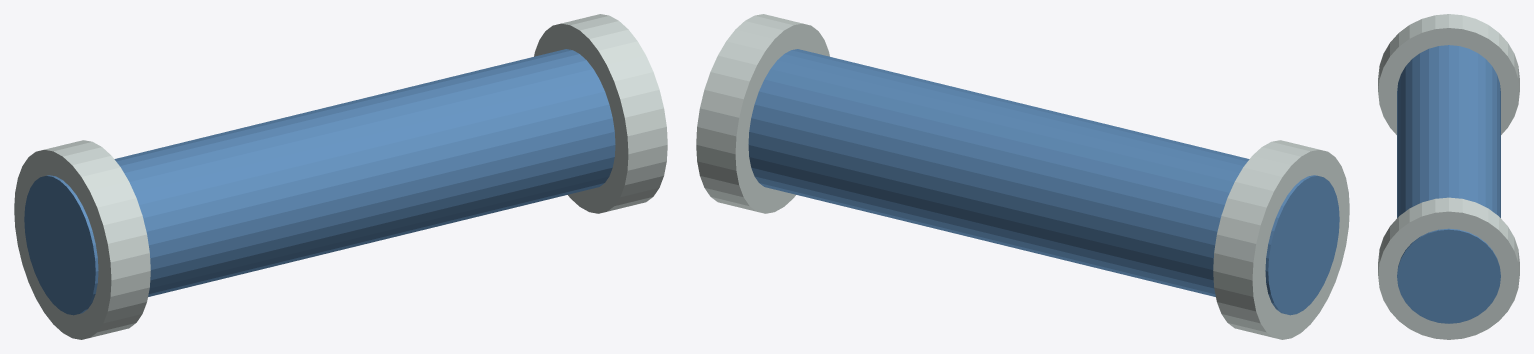
File: pipe.glb
3 renders of one model, left to right at view 1: azimuth 30°, elevation 25°; view 2: azimuth 150°, elevation 25°; view 3: azimuth 270°, elevation 25°, orthographic. The views are drawn at different scales.
Visible parts, largest first — view 1: Pipe_Body, Pipe_Collar, Pipe_Collar.001; view 2: Pipe_Body, Pipe_Collar, Pipe_Collar.001; view 3: Pipe_Body, Pipe_Collar.001, Pipe_Collar.
Boxes of the visible parts, x1,y1,x2,y2 form: Pipe_Body: (24,49,615,315); Pipe_Collar: (14,140,150,339); Pipe_Collar.001: (534,14,667,213); Pipe_Body: (748,49,1339,315); Pipe_Collar: (1213,140,1349,339); Pipe_Collar.001: (696,14,829,213); Pipe_Body: (1397,45,1500,323); Pipe_Collar.001: (1378,197,1519,339); Pipe_Collar: (1378,14,1519,134).
Size of the model in its own units: 1 by 0.3 by 0.3.
